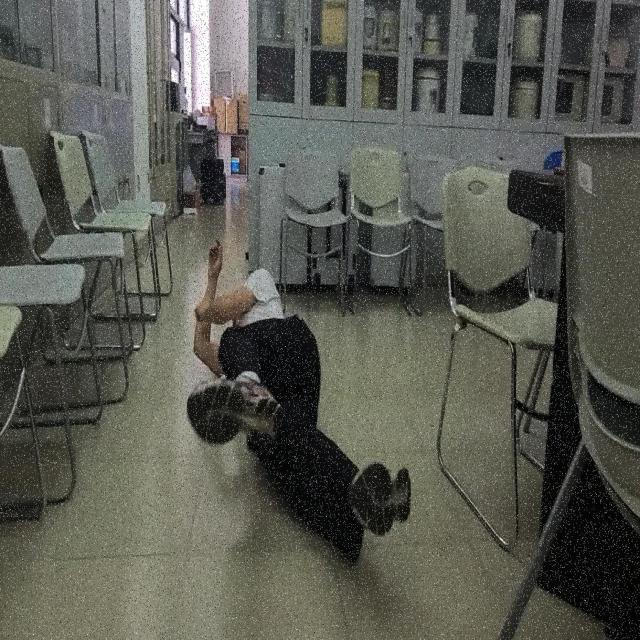fall: (188, 238, 412, 566)
